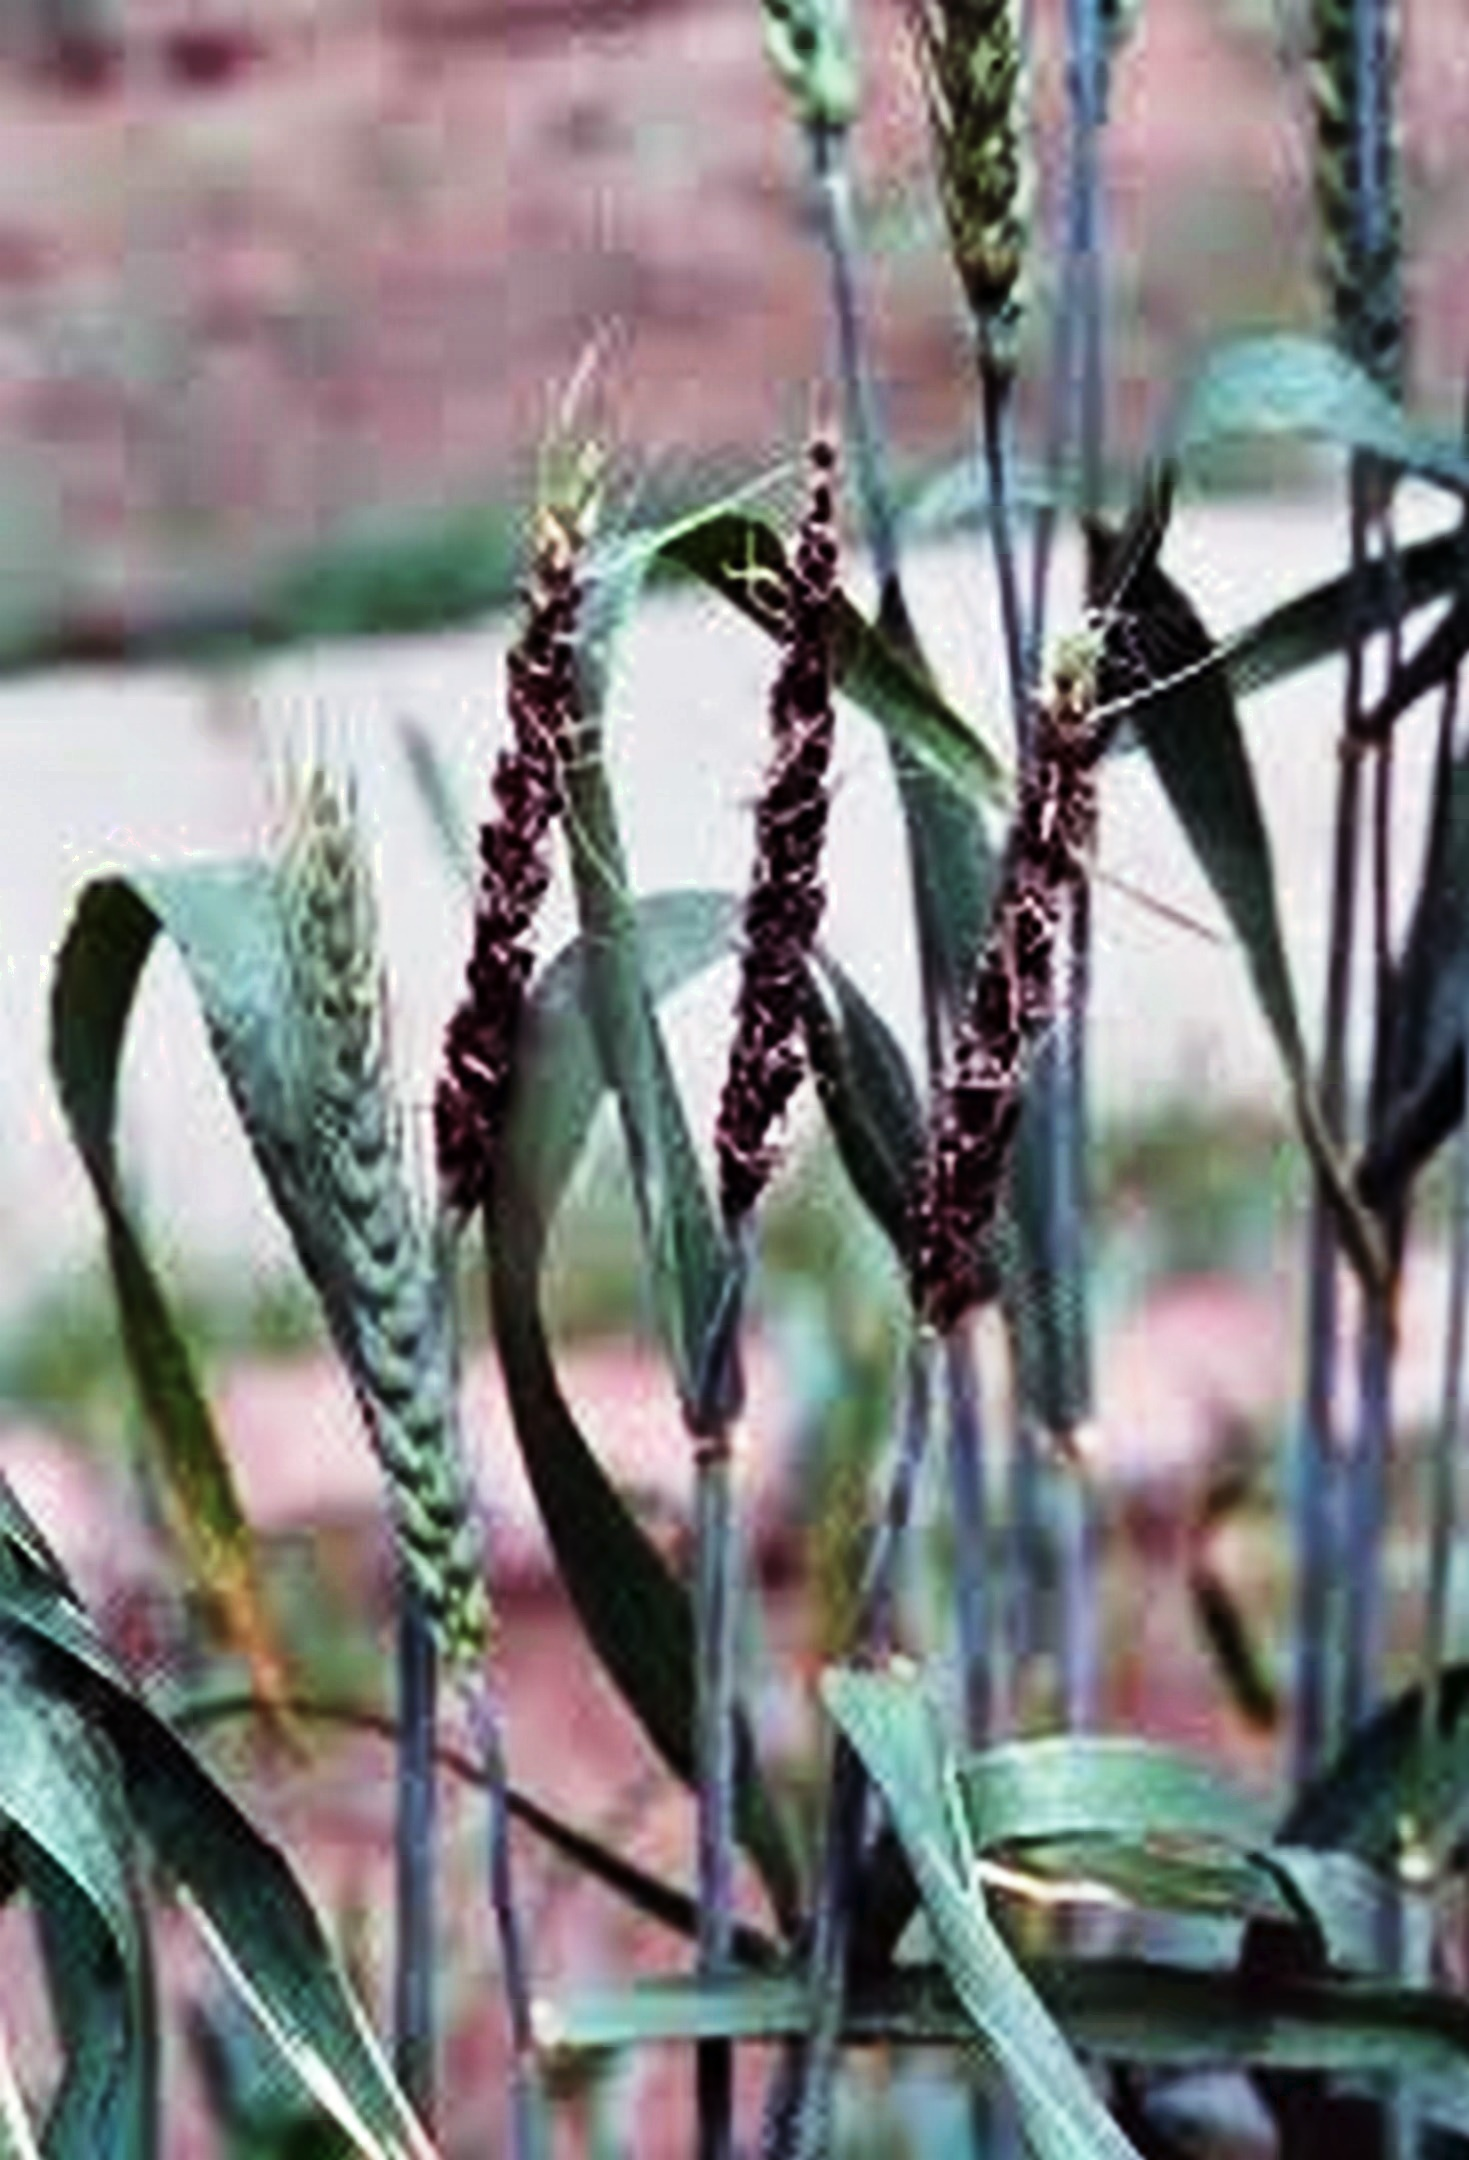Wheat Loose Smut: (410, 487, 1105, 1352)
